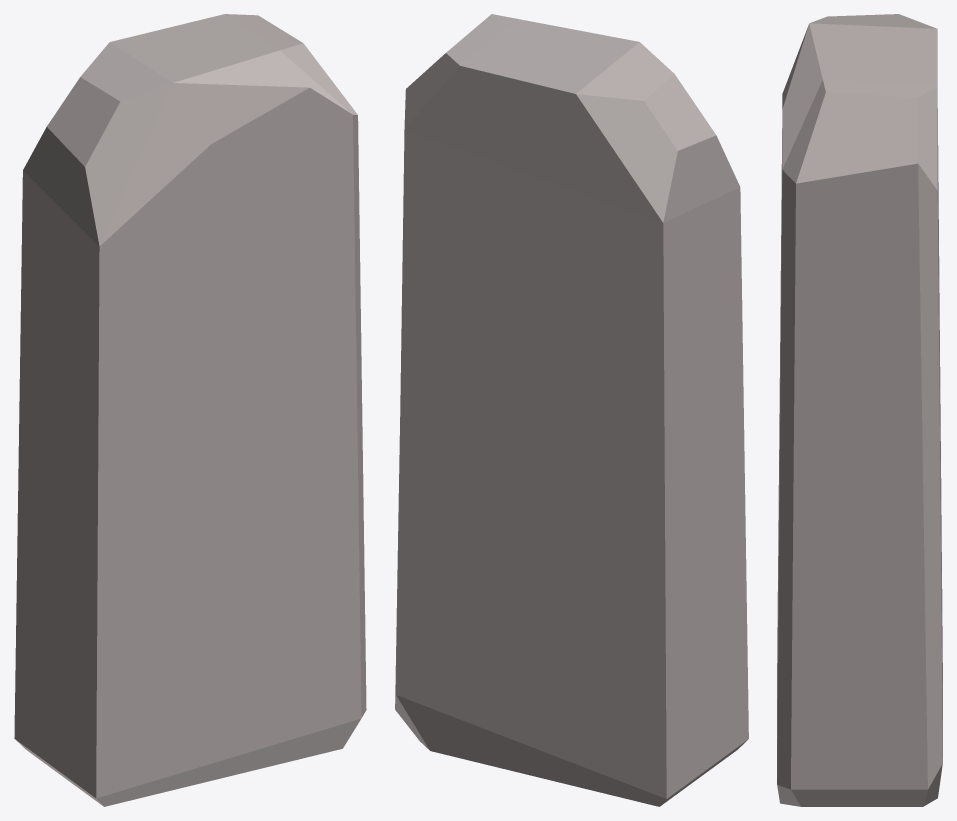
Rendered from StoneHenge_Stone1.fbx.
3 renders of one model, left to right at view 1: azimuth 30°, elevation 25°; view 2: azimuth 150°, elevation 25°; view 3: azimuth 270°, elevation 25°, orthographic.
Visible parts, largest first — view 1: StoneHenge_Stone1; view 2: StoneHenge_Stone1; view 3: StoneHenge_Stone1.
Part boxes in pixels (left/top/right/bottom): StoneHenge_Stone1: left=14, top=14, right=366, bottom=806; StoneHenge_Stone1: left=395, top=14, right=748, bottom=806; StoneHenge_Stone1: left=777, top=14, right=942, bottom=806.
Bounding box in the file's own units: 82.25 × 41.99 × 197.
